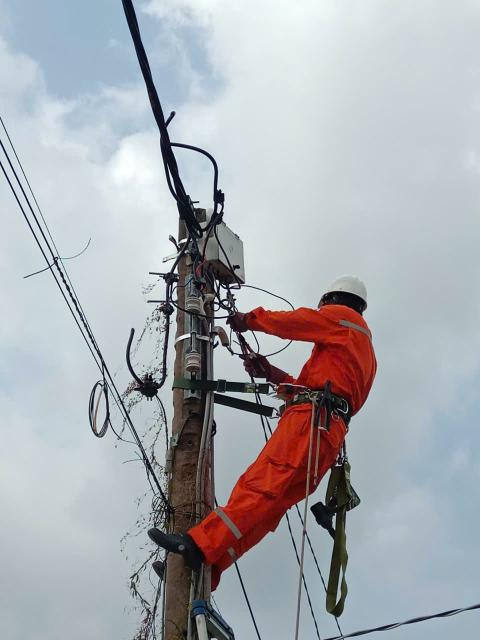gloves: (234, 340, 277, 388), (220, 300, 262, 335)
harness: (273, 367, 349, 425)
helmet: (316, 255, 375, 323)
shoes: (138, 526, 210, 561)
